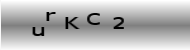2: (111, 16, 126, 30)
C: (86, 11, 101, 26)
K: (63, 15, 80, 31)
r: (45, 11, 56, 22)
u: (31, 26, 45, 37)
